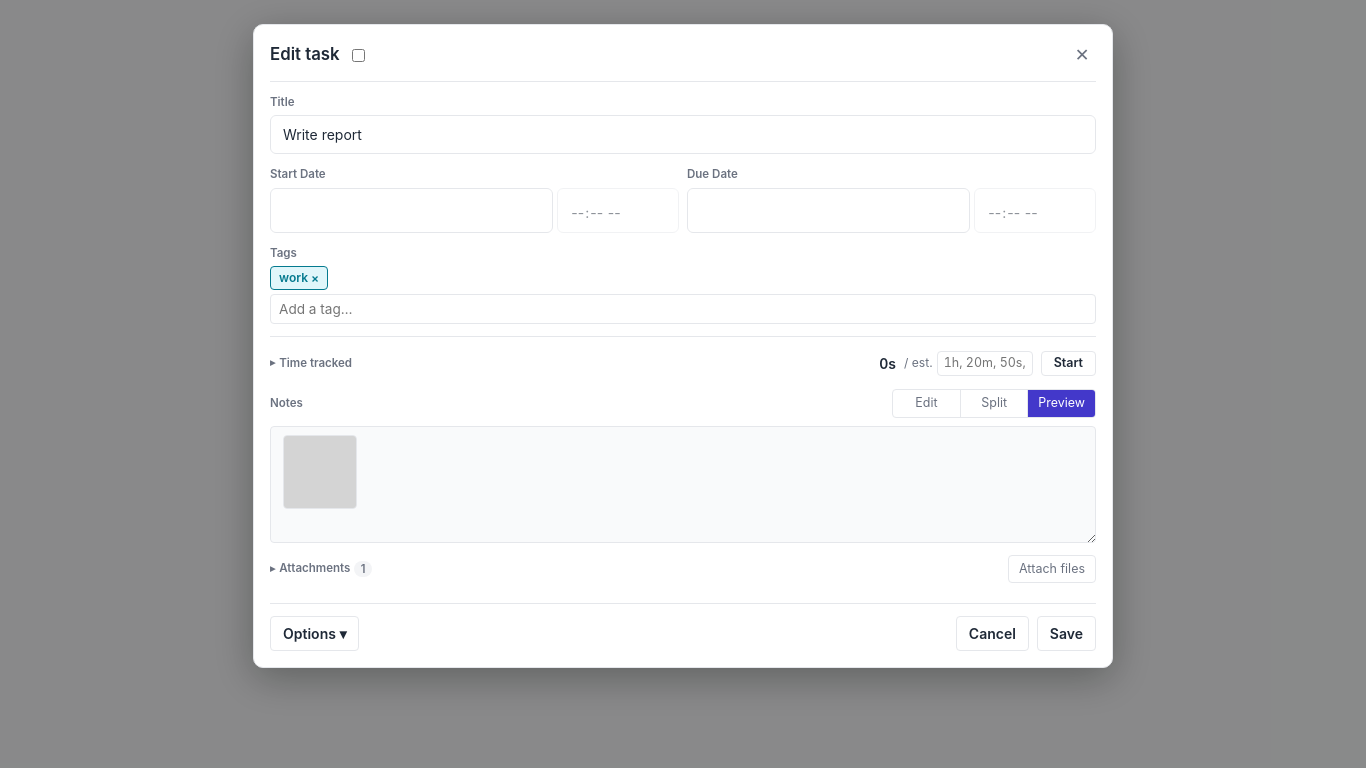
Test: TaskEditor attachments in notes (#113) › swaps an inline image for the broken marker when its attachment is deleted
This screenshot has width=1366, height=768.
Click the button "▸ Attachments 1" at (321, 569), box [270,560,372,578]
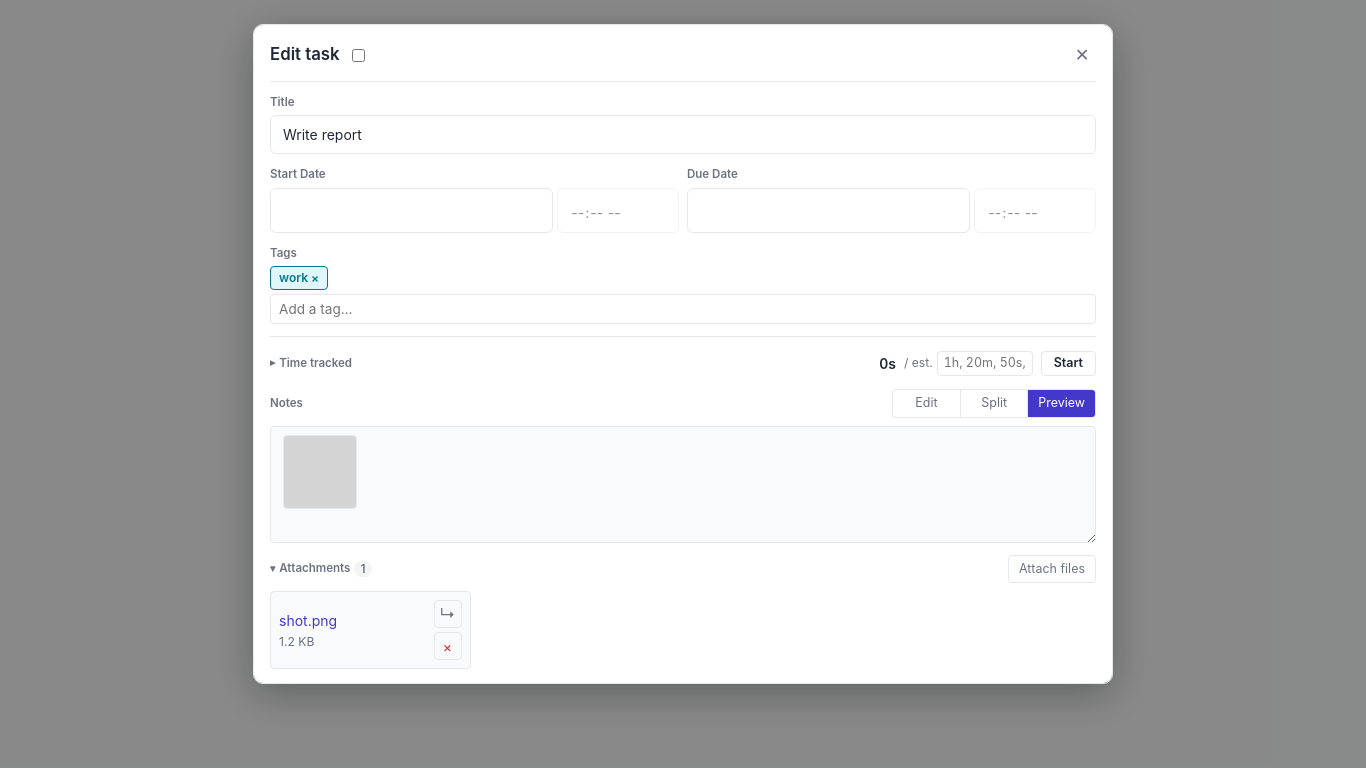
Click the button named "Remove shot.png" at (448, 646), box [434,632,462,660]
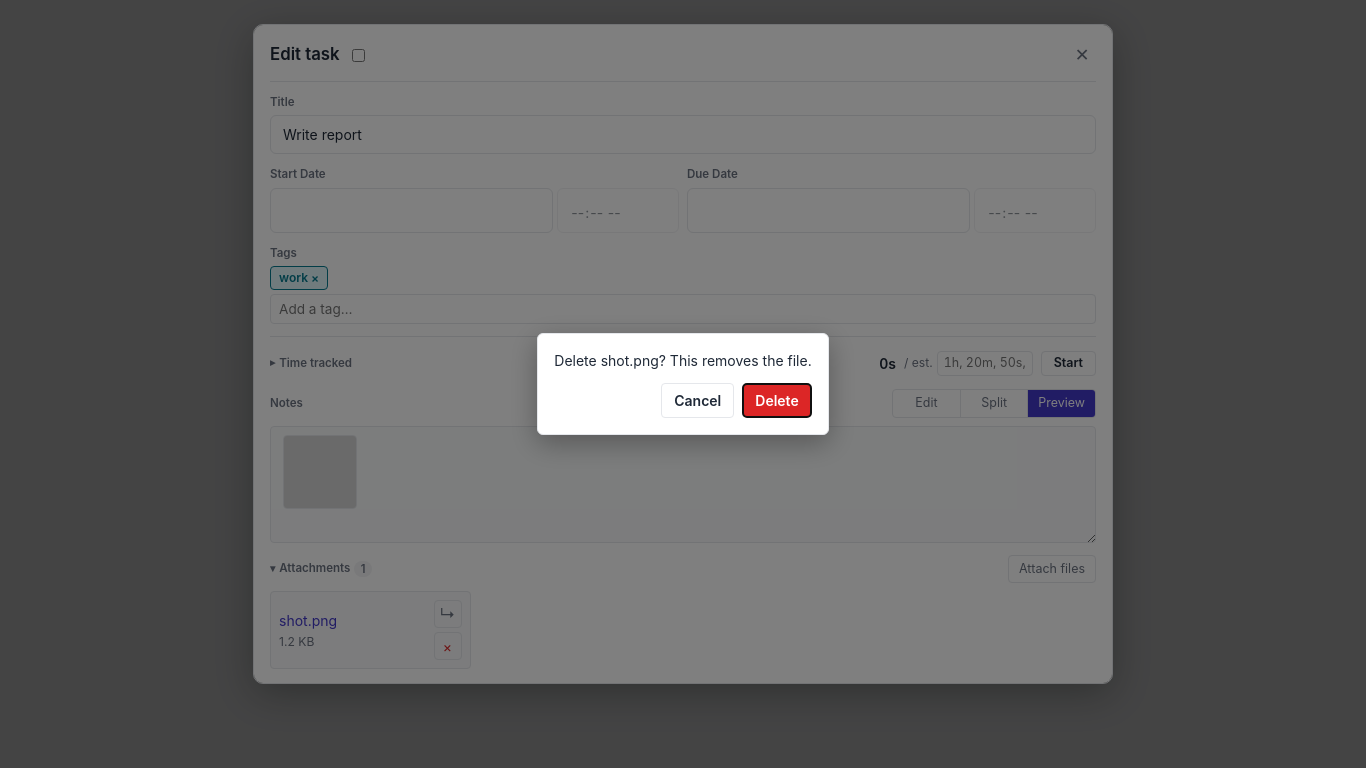
Click the button "Delete" at (777, 400), box [742,383,812,418]
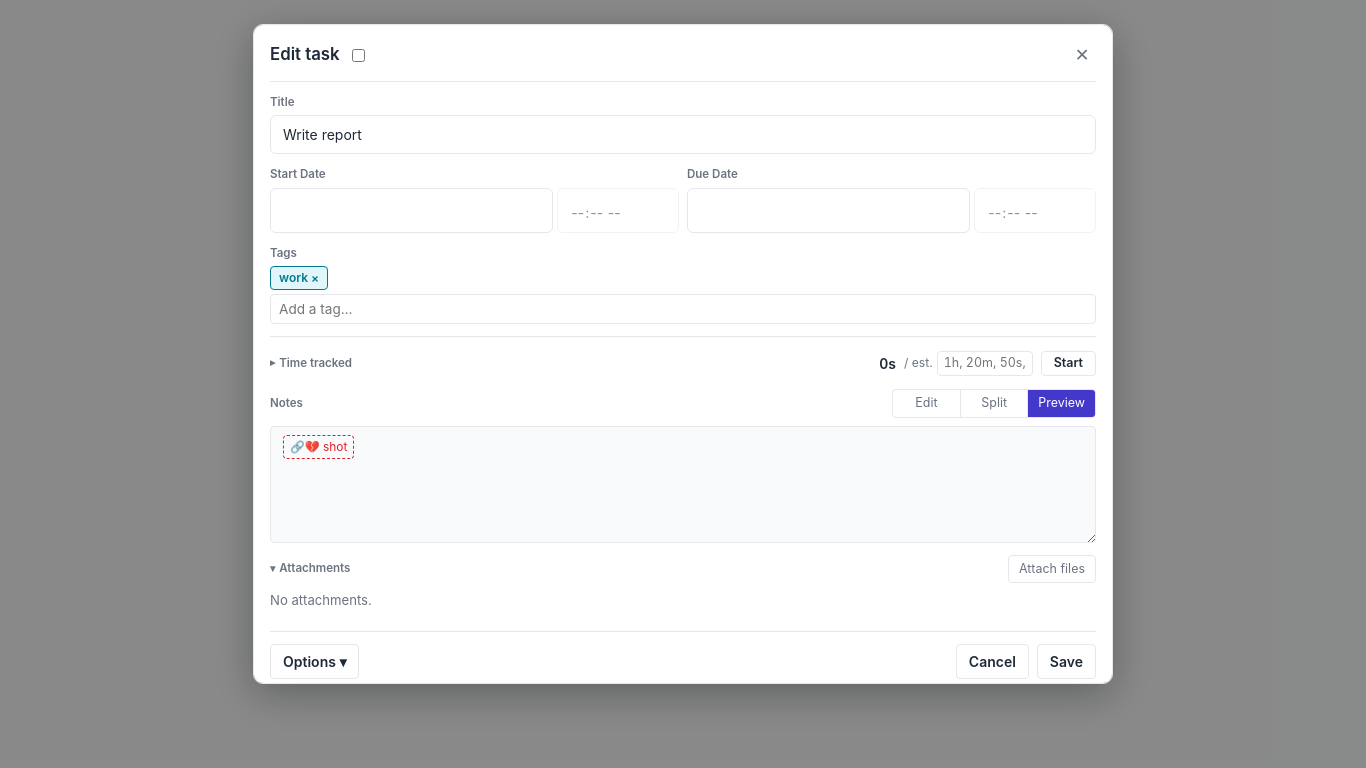
Result: the text "🔗💔 shot" is shown at [283,435,354,459]
Result: the picture with class "te-md-image" is gone
